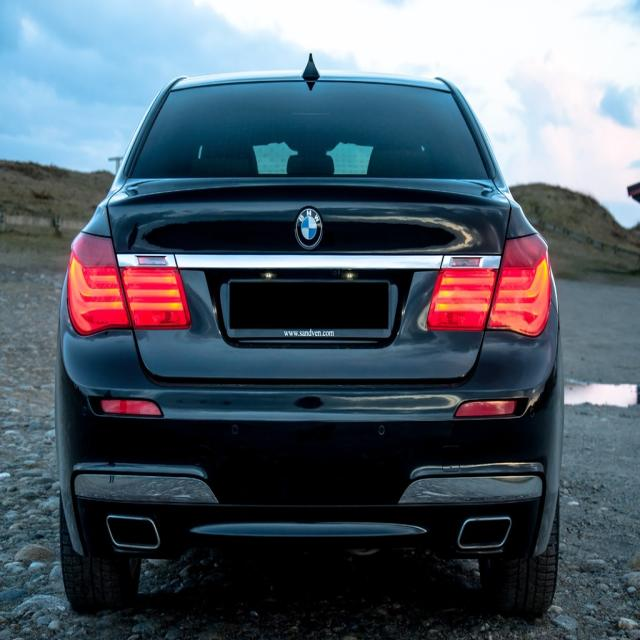car: (50, 49, 552, 638)
